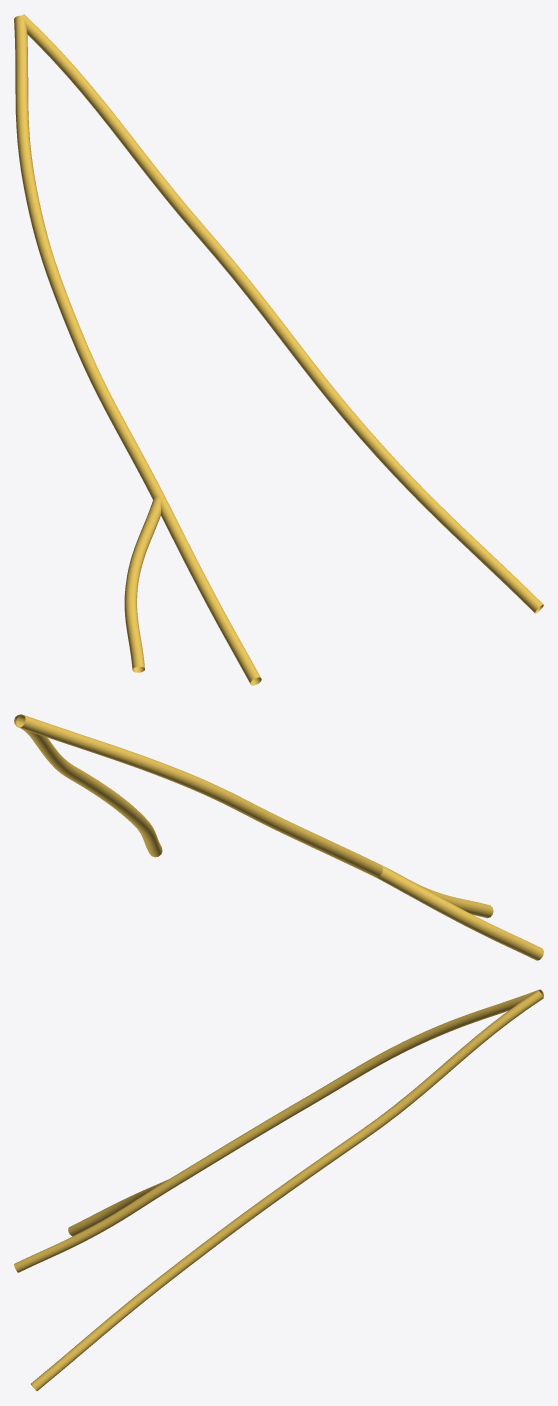
Rendered from Medial_dorsal_cutaneous_nerve_foot_right_1.glb.
3 renders of one model, top to bottom at view 1: azimuth 30°, elevation 25°; view 2: azimuth 150°, elevation 25°; view 3: azimuth 270°, elevation 25°, orthographic. The views are drawn at different scales.
Parts seen in each view (by area): view 1: Medial_dorsal_cutaneous_nerve_of_foot.r.001_BezierCurve.508; view 2: Medial_dorsal_cutaneous_nerve_of_foot.r.001_BezierCurve.508; view 3: Medial_dorsal_cutaneous_nerve_of_foot.r.001_BezierCurve.508.
Part boxes in pixels (x1,y1,x2,y2): Medial_dorsal_cutaneous_nerve_of_foot.r.001_BezierCurve.508: (14, 14, 543, 685); Medial_dorsal_cutaneous_nerve_of_foot.r.001_BezierCurve.508: (14, 714, 543, 960); Medial_dorsal_cutaneous_nerve_of_foot.r.001_BezierCurve.508: (14, 989, 543, 1391).
Bounding box in the file's own units: 0.035 × 0.0357 × 0.0527.
